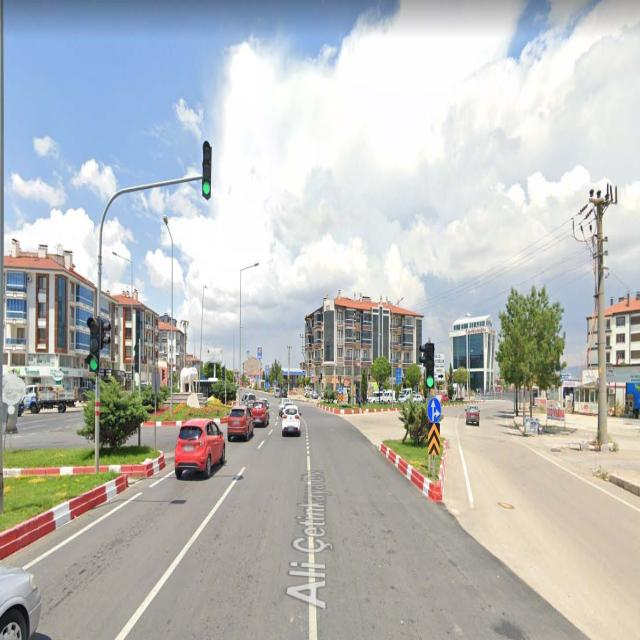ilerisag: (427, 397, 441, 421)
yesil: (202, 140, 212, 198), (88, 320, 97, 371), (427, 342, 435, 389)
